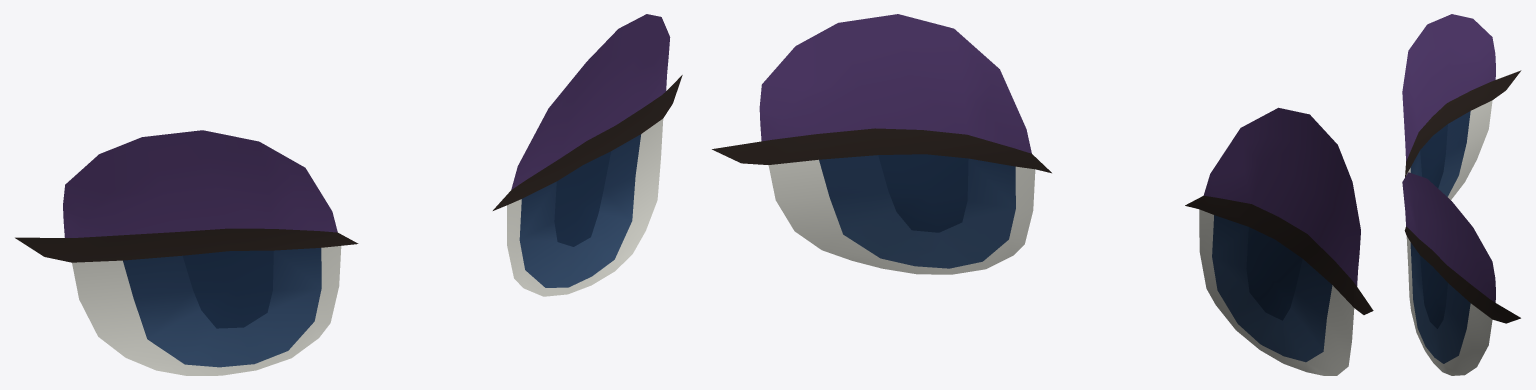
File: Eye_BlueB_8.fbx
The picture shows the model from 3 angles, left to right: view 1: azimuth 30°, elevation 25°; view 2: azimuth 150°, elevation 25°; view 3: azimuth 270°, elevation 25°; orthographic projection. The views are drawn at different scales.
Parts seen in each view (by area): view 1: Eye_BlueB_8; view 2: Eye_BlueB_8; view 3: Eye_BlueB_8.
Part boxes in pixels (bbox=[...]): Eye_BlueB_8: bbox=[15, 14, 682, 375]; Eye_BlueB_8: bbox=[712, 14, 1373, 375]; Eye_BlueB_8: bbox=[1402, 14, 1521, 375].
Bounding box in the file's own units: 41.23 × 14.98 × 8.38.
